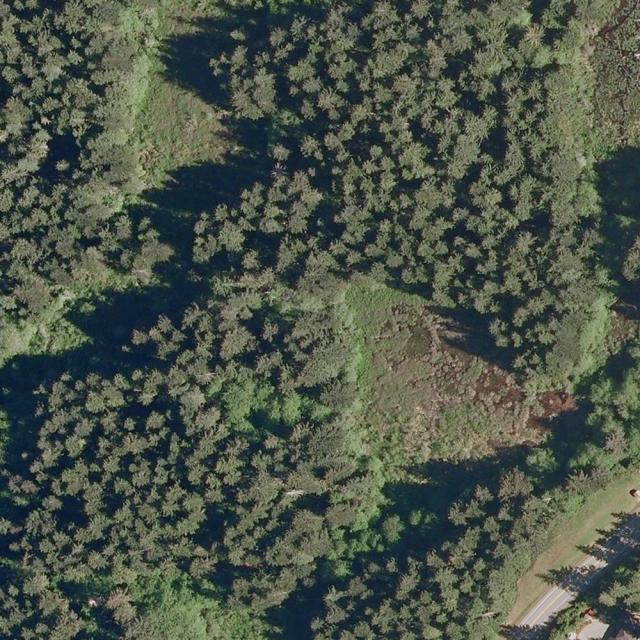greenland: (293, 279, 577, 544), (297, 428, 639, 640), (143, 245, 396, 411), (484, 460, 640, 628), (289, 465, 466, 591)
